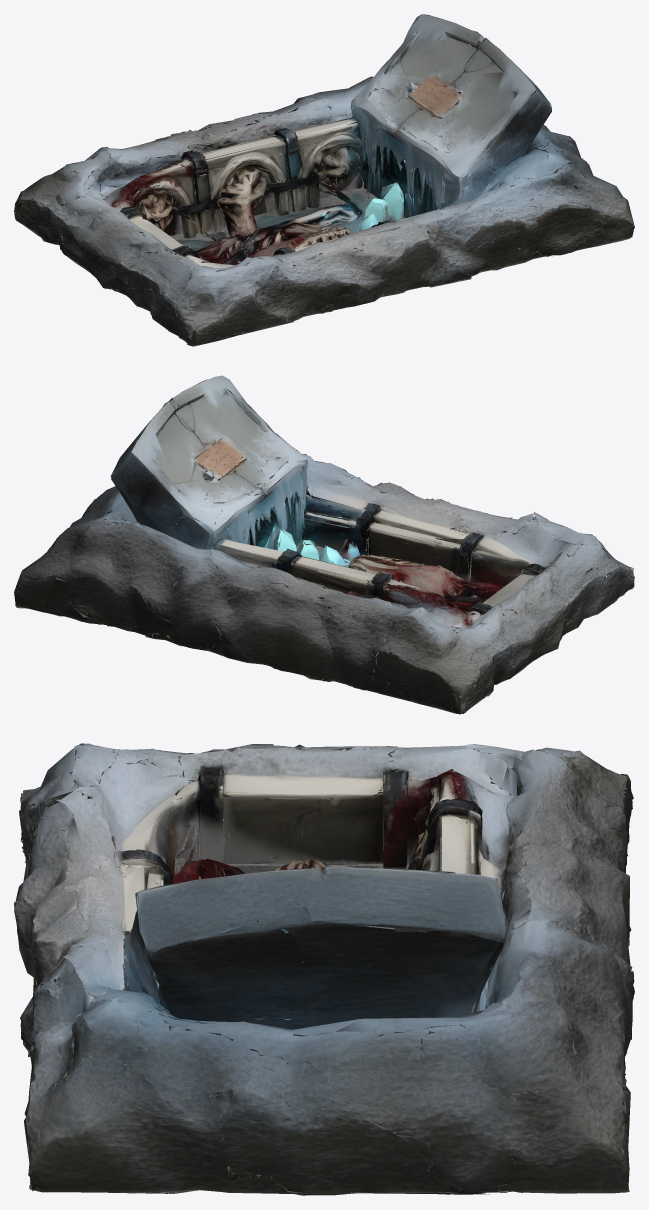
Rendered from prop_camp_grave_old.glb.
The picture shows the model from 3 angles, top to bottom: view 1: azimuth 30°, elevation 25°; view 2: azimuth 150°, elevation 25°; view 3: azimuth 270°, elevation 25°; orthographic projection. The views are drawn at different scales.
Visible parts, largest first — view 1: node_0; view 2: node_0; view 3: node_0.
Part boxes in pixels (box(x1,y1,x2,y2)): node_0: box(14, 14, 634, 346); node_0: box(14, 375, 634, 714); node_0: box(14, 743, 634, 1195).
Bounding box in the file's own units: 0.9749 × 0.3235 × 0.6669.
1 material, 1 textured.
